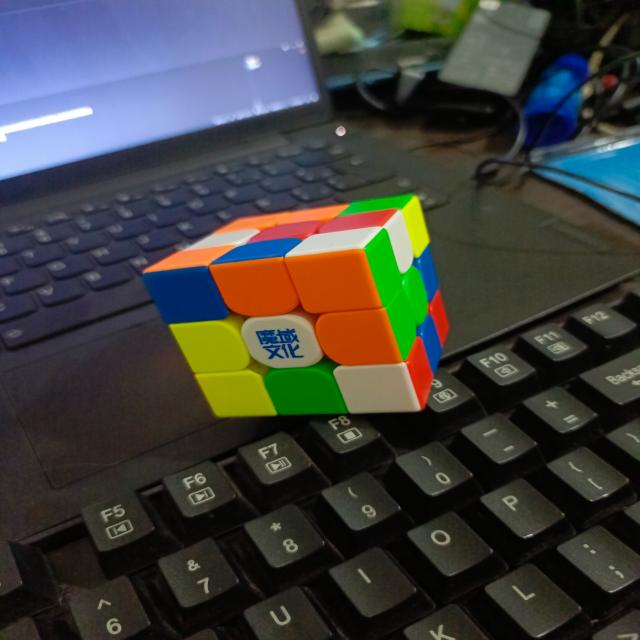rubik: (140, 193, 451, 418)
